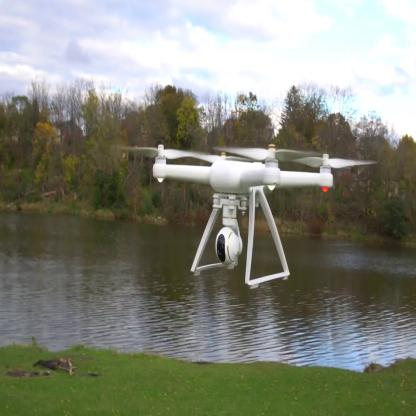drone: (124, 130, 368, 235)
